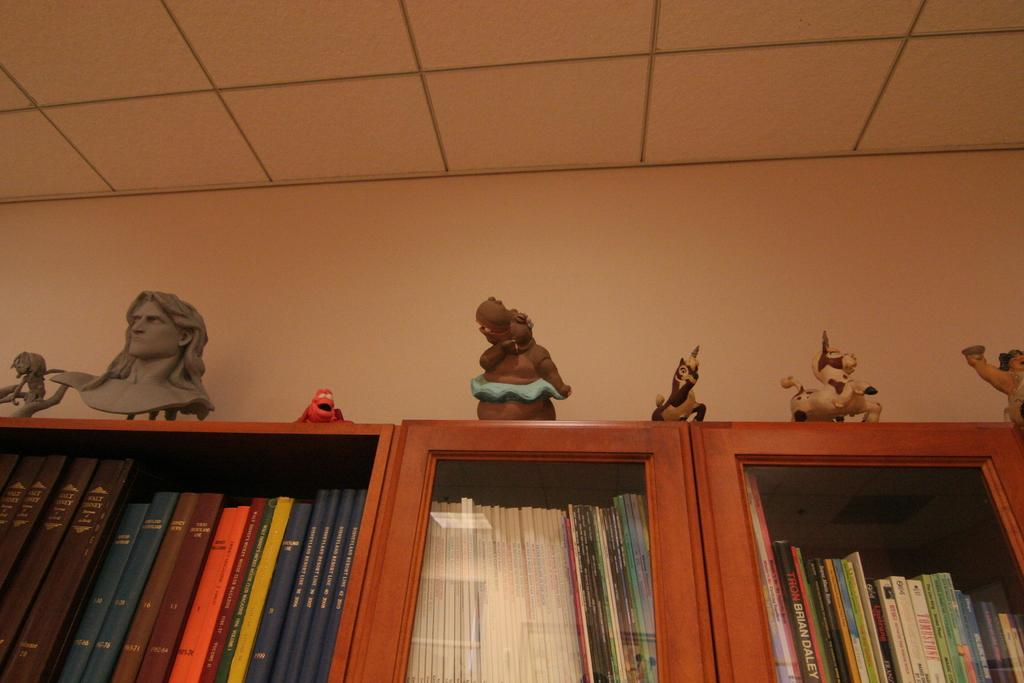Book: (57, 483, 374, 682), (738, 473, 1023, 682), (405, 493, 653, 682), (0, 459, 136, 682)
